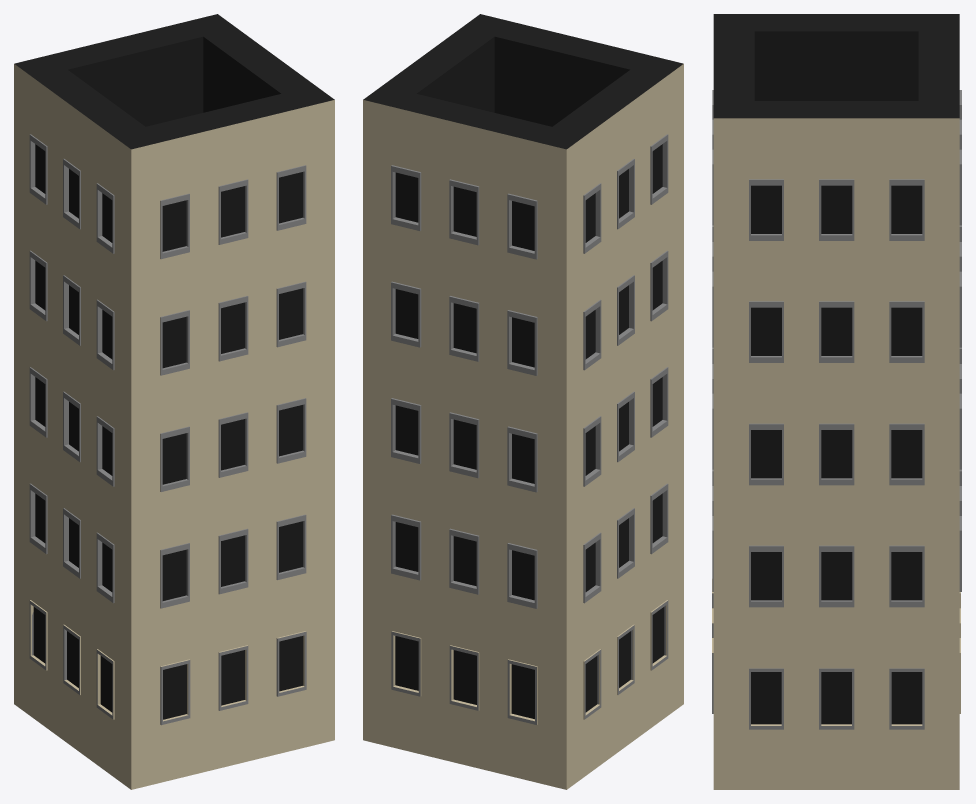
Rendered from 建築中その1.fbx.
3 renders of one model, left to right at view 1: azimuth 30°, elevation 25°; view 2: azimuth 150°, elevation 25°; view 3: azimuth 270°, elevation 25°, orthographic. The views are drawn at different scales.
Parts seen in each view (by area): view 1: 立方体, 立方体_cell.004, 立方体_cell.001, 立方体_cell.002, 立方体_cell.014; view 2: 立方体, 立方体_cell.002, 立方体_cell.001, 立方体_cell.014; view 3: 立方体, 立方体_cell.004, 立方体_cell.014.
Part boxes in pixels (x1,y1,x2,y2): 立方体: [14, 14, 334, 759]; 立方体_cell.004: [85, 612, 334, 789]; 立方体_cell.001: [14, 61, 191, 342]; 立方体_cell.002: [14, 484, 170, 733]; 立方体_cell.014: [153, 78, 334, 264]; 立方体: [363, 14, 683, 789]; 立方体_cell.002: [536, 433, 683, 704]; 立方体_cell.001: [566, 64, 683, 284]; 立方体_cell.014: [471, 37, 494, 107]; 立方体: [712, 14, 961, 789]; 立方体_cell.004: [712, 579, 959, 789]; 立方体_cell.014: [712, 95, 789, 183].
Size of the model in its own units: 610 by 1812 by 611.
